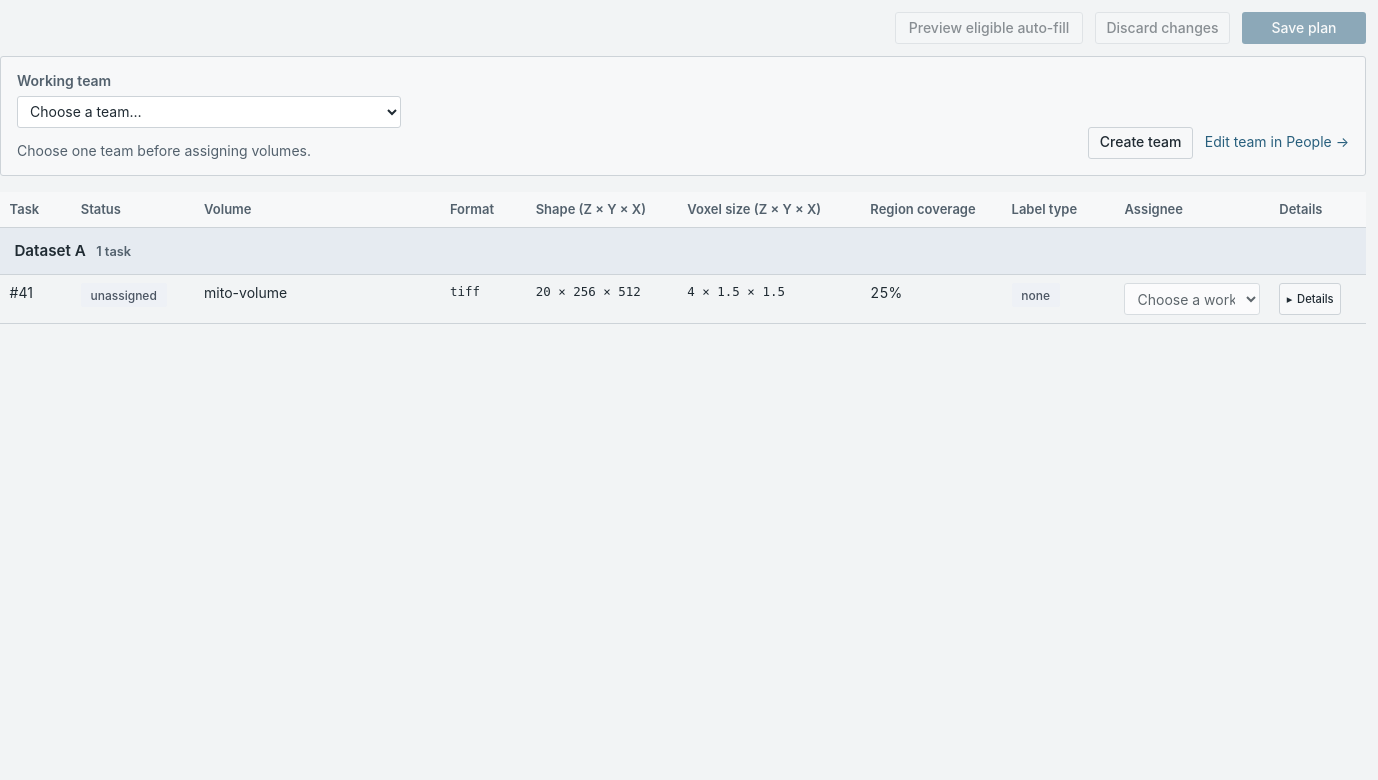
Test: AssignmentPlanEditor team-first assignment › keeps a newly-created team selected and preserves row drafts
Expected: the dropdown labelled "Working team" is shown, [17, 96, 401, 128]
Click the button "▸ Details" at (1310, 299), box [1279, 283, 1341, 315]
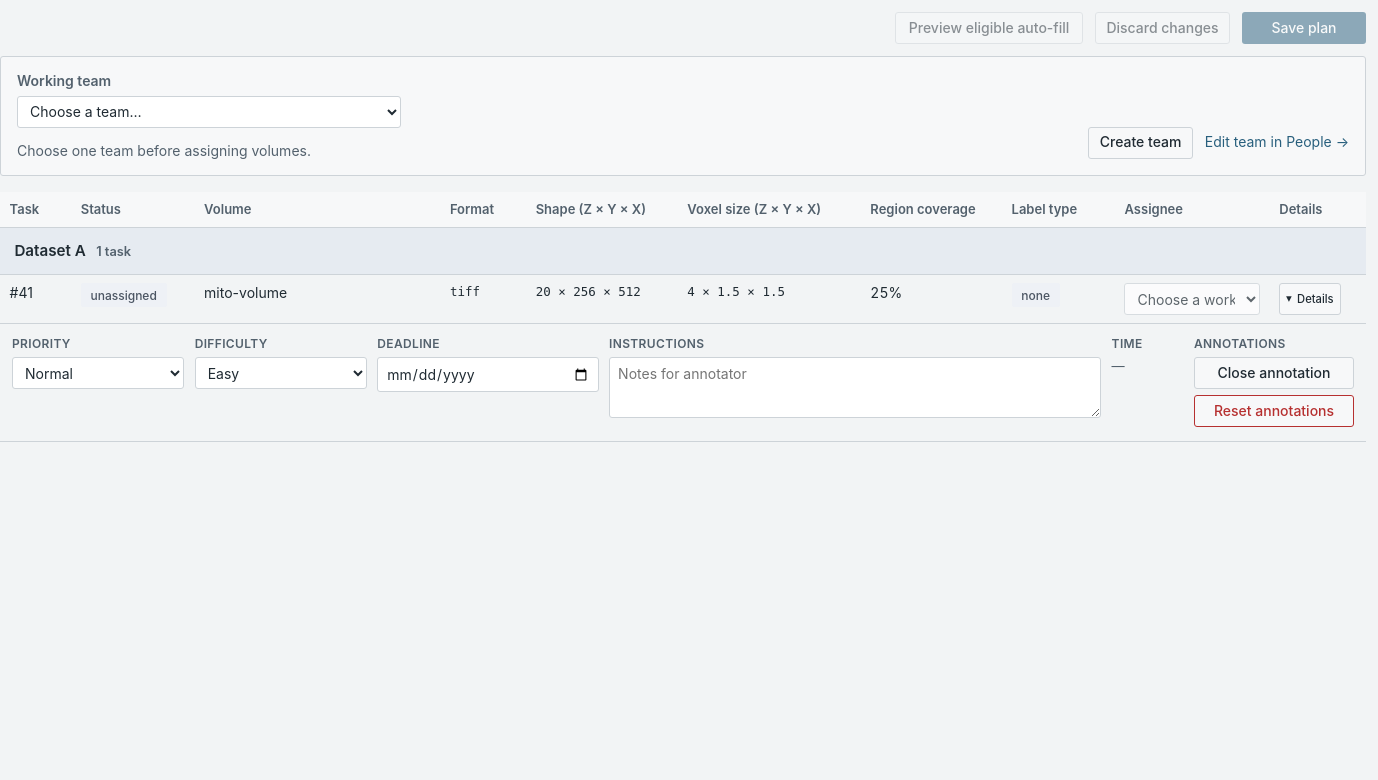
Select "High" in the dropdown labelled "Priority" at (98, 373), box [12, 357, 184, 389]
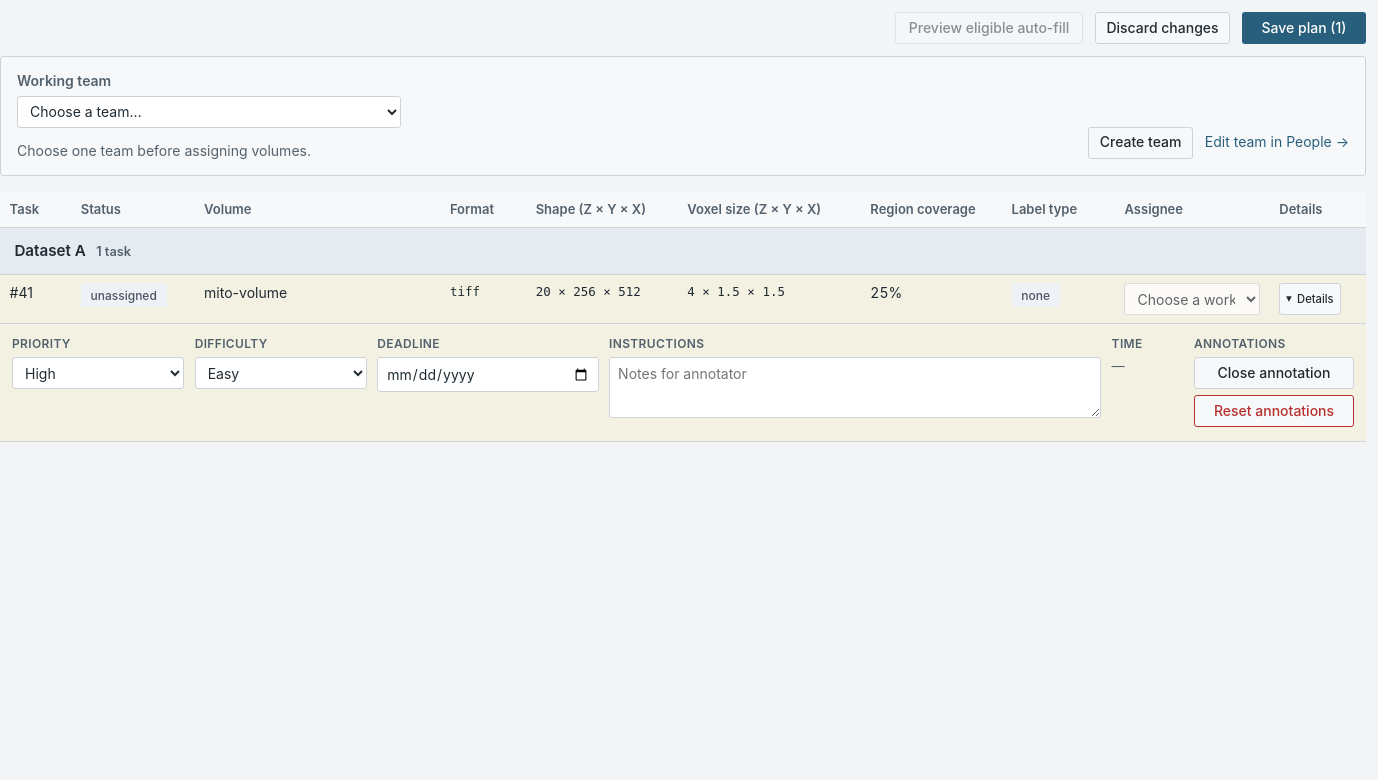
Click the button "Create team" at (1141, 143), box [1088, 127, 1193, 159]
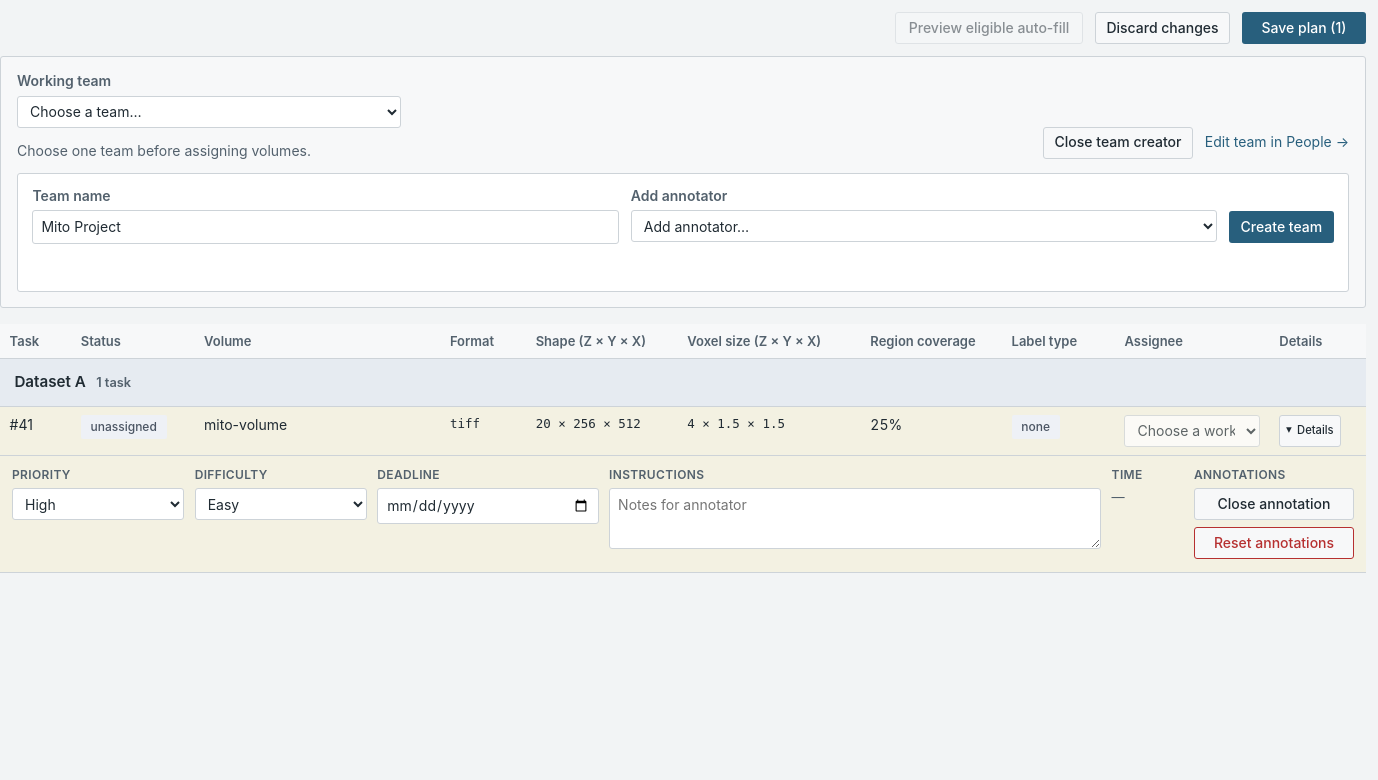
Expected: the field named "New team name" holds "Mito Project", [32, 210, 619, 244]
Select "outsider" in the dropdown named "Add annotator to new team" at (924, 226), box [631, 210, 1217, 242]
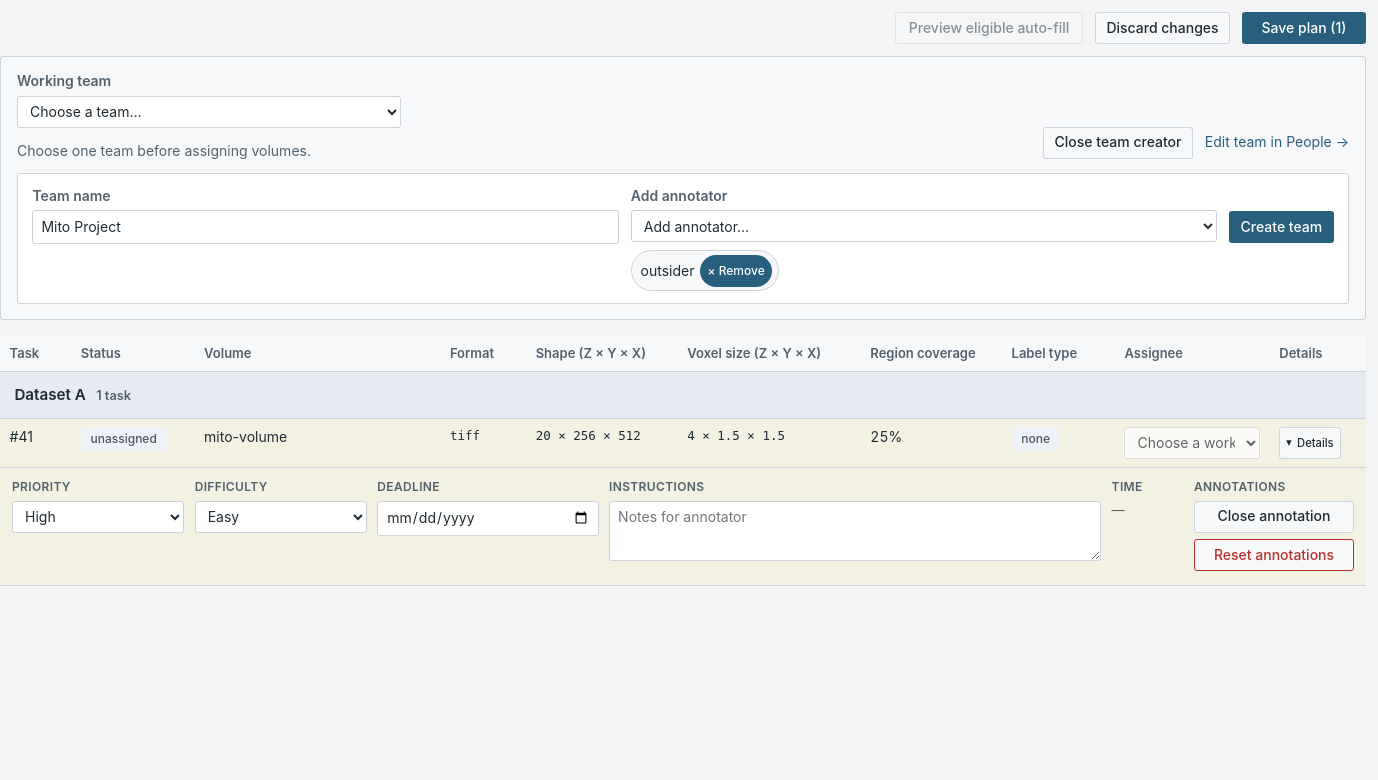
Click the button "Create team" at (1281, 227), box [1229, 211, 1334, 243]
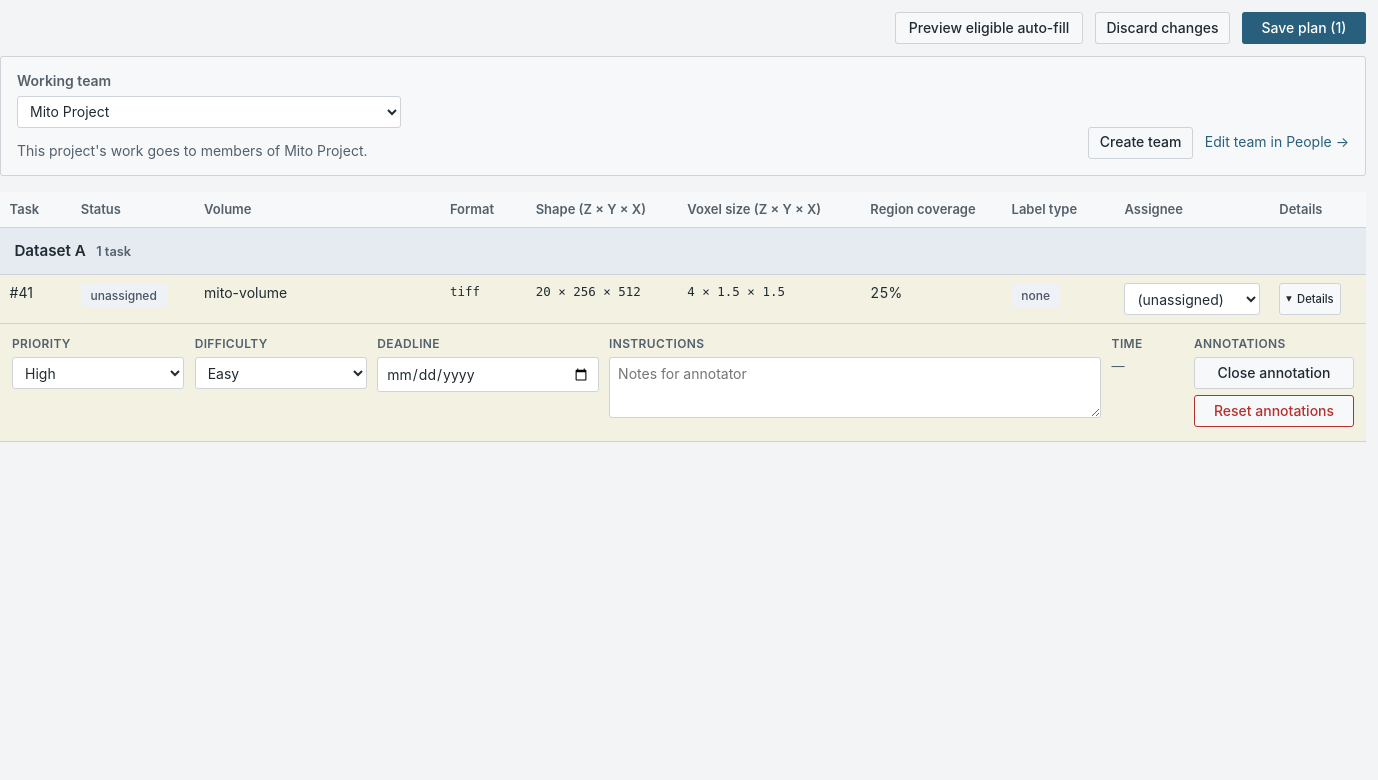
Expected: the dropdown labelled "Working team" shows "Mito Project", [17, 96, 401, 128]
